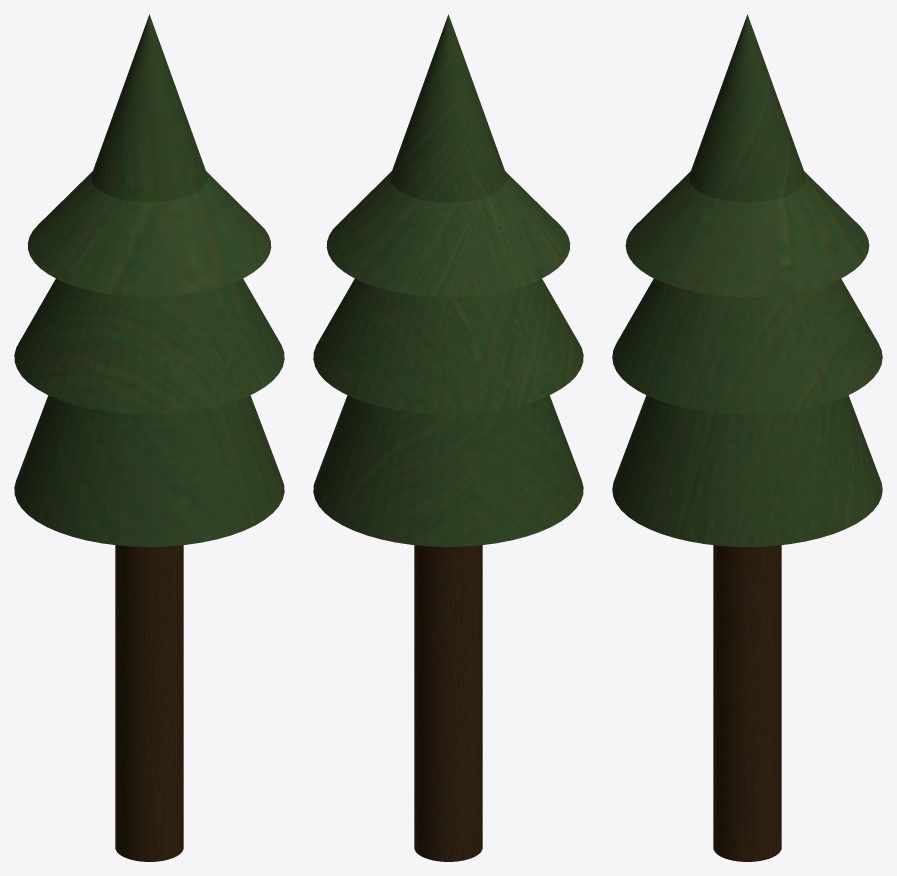
File: Tree.fbx
The picture shows the model from 3 angles, left to right: view 1: azimuth 30°, elevation 25°; view 2: azimuth 150°, elevation 25°; view 3: azimuth 270°, elevation 25°; orthographic projection.
Visible parts, largest first — view 1: Tree; view 2: Tree; view 3: Tree.
Part boxes in pixels (x1,y1,x2,y2): Tree: (14,14,284,861); Tree: (313,14,583,861); Tree: (612,14,882,861).
Bounding box in the file's own units: 28.51 × 97.13 × 28.56.
